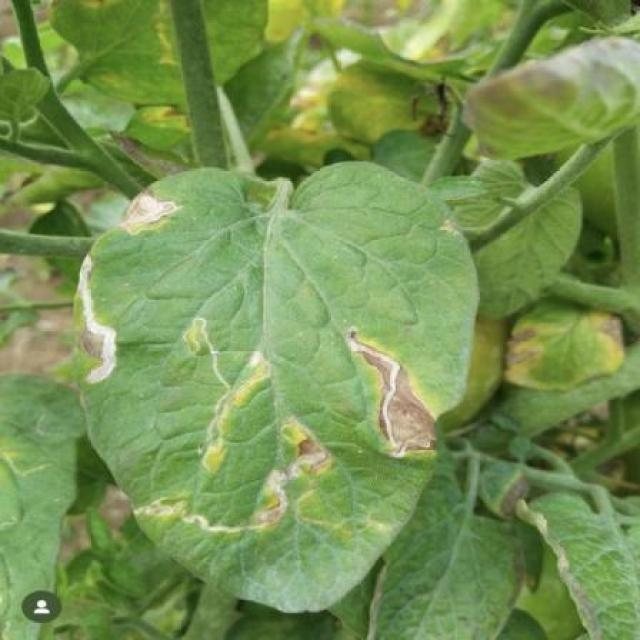Leaf Miner: (73, 166, 480, 613)
